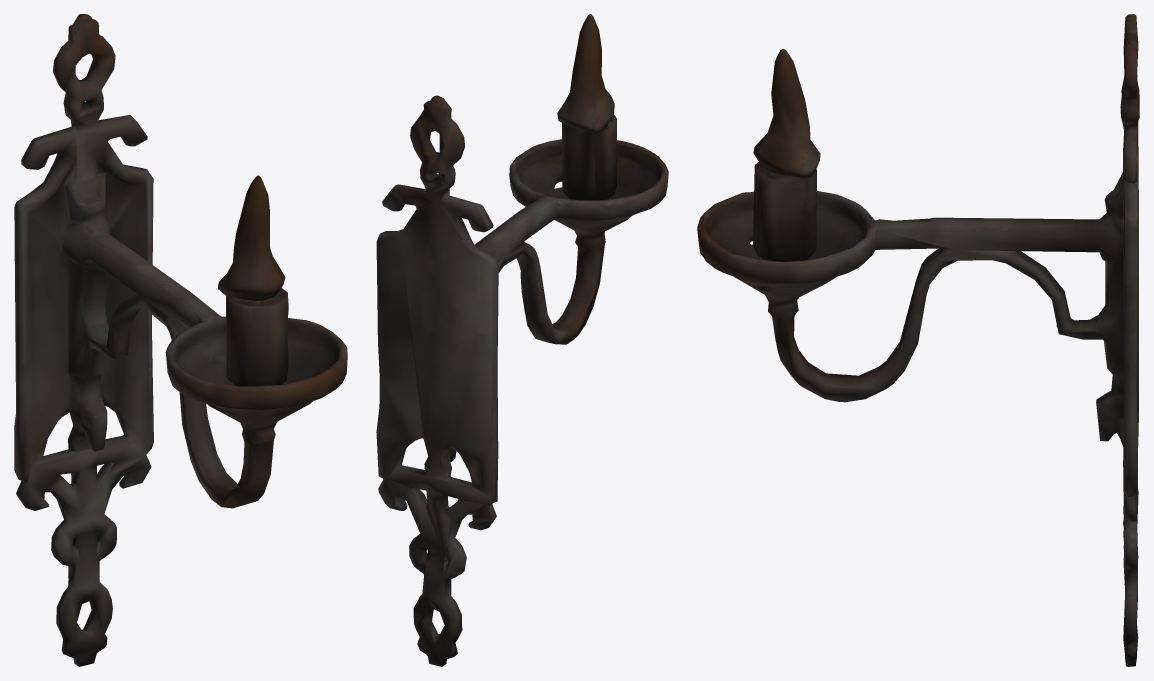
File: ancient-iron-wall-torch-v001.glb
The picture shows the model from 3 angles, left to right: view 1: azimuth 30°, elevation 25°; view 2: azimuth 150°, elevation 25°; view 3: azimuth 270°, elevation 25°; orthographic projection. The views are drawn at different scales.
Visible parts, largest first — view 1: ancient-iron-wall-torch; view 2: ancient-iron-wall-torch; view 3: ancient-iron-wall-torch.
Boxes of the visible parts, box(x1,y1,x2,y2) form: ancient-iron-wall-torch: box(14, 14, 347, 666); ancient-iron-wall-torch: box(376, 14, 668, 666); ancient-iron-wall-torch: box(697, 14, 1139, 666).
Bounding box in the file's own units: 0.1484 × 0.5774 × 0.3578.
Materials: 1 (1 with a texture image).
